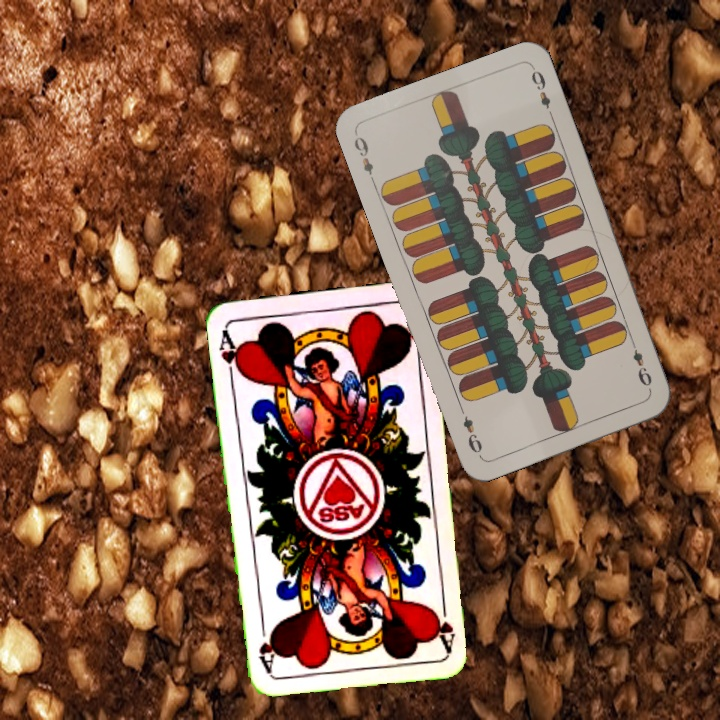E9: (350, 132, 378, 187), (627, 336, 655, 389)
HA: (215, 324, 246, 383), (429, 593, 457, 652)
